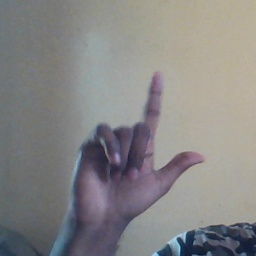L: (63, 70, 213, 223)
